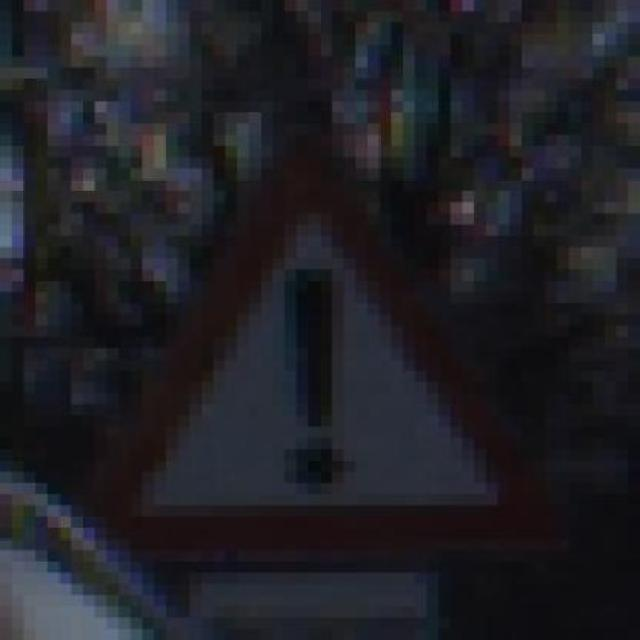Attention Please-: (71, 100, 569, 594)
